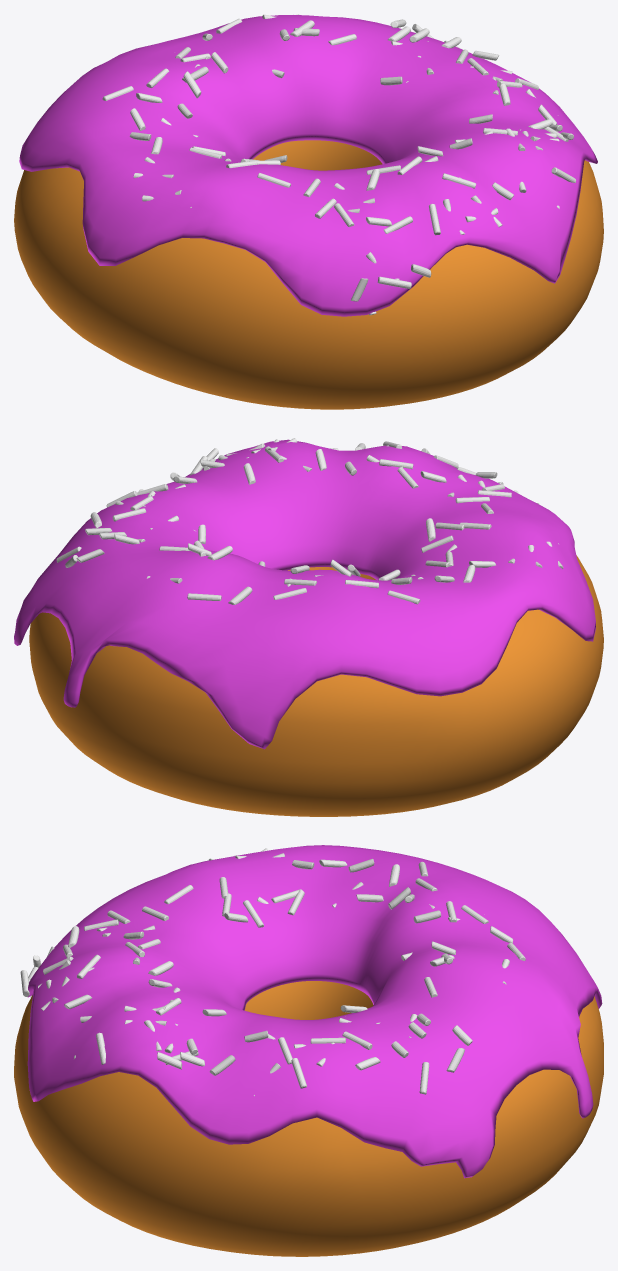
File: donut_edited.fbx
3 views of the same model, one above another, from view 1: azimuth 30°, elevation 25°; view 2: azimuth 150°, elevation 25°; view 3: azimuth 270°, elevation 25° (orthographic). The views are drawn at different scales.
Parts seen in each view (by area): view 1: Icing 2, Torus; view 2: Icing 2, Torus; view 3: Icing 2, Torus.
Part boxes in pixels (box(x1,y1,x2,y2)): Icing 2: box(19, 15, 597, 316); Torus: box(14, 140, 603, 409); Icing 2: box(14, 439, 595, 749); Torus: box(29, 555, 603, 816); Icing 2: box(27, 845, 602, 1178); Torus: box(14, 981, 603, 1256).
Bounding box in the file's own units: 16.15 × 7.3 × 15.82.
